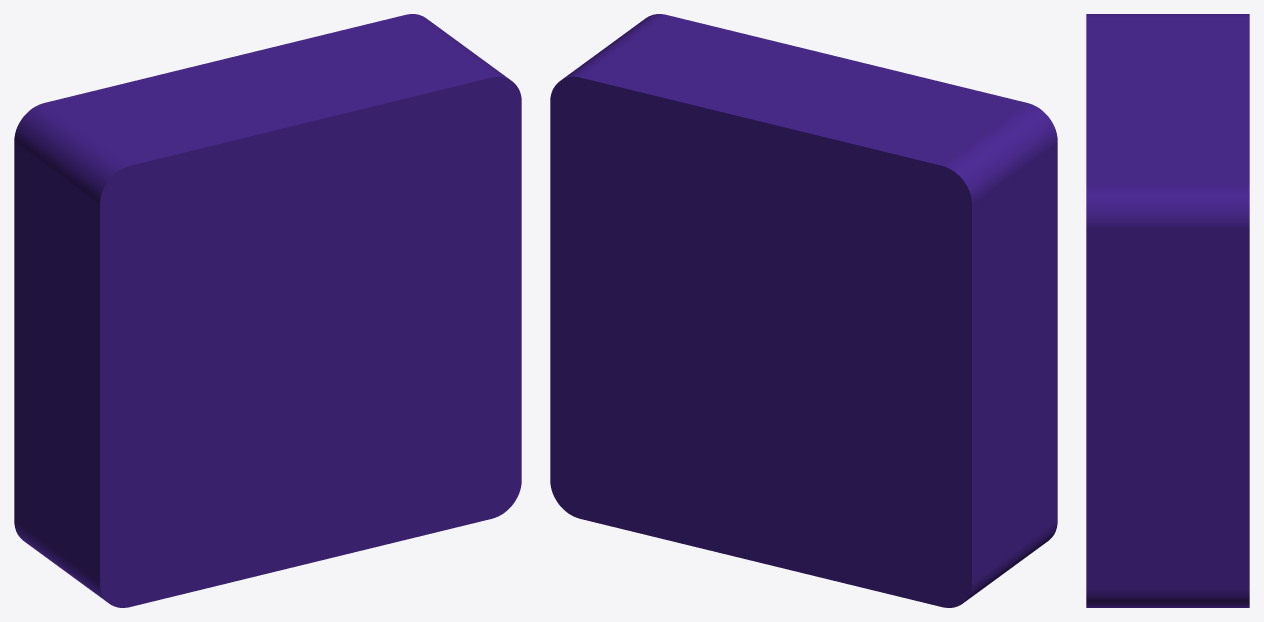
3 renders of one model, left to right at view 1: azimuth 30°, elevation 25°; view 2: azimuth 150°, elevation 25°; view 3: azimuth 270°, elevation 25°, orthographic. The views are drawn at different scales.
Parts seen in each view (by area): view 1: U+1F7EA_layer00_obj00; view 2: U+1F7EA_layer00_obj00; view 3: U+1F7EA_layer00_obj00.
Boxes of the visible parts, x1=… form: U+1F7EA_layer00_obj00: x1=14, y1=14, x2=521, y2=607; U+1F7EA_layer00_obj00: x1=550, y1=14, x2=1057, y2=607; U+1F7EA_layer00_obj00: x1=1086, y1=14, x2=1249, y2=607.
Size of the model in its own units: 0.5678 by 0.5677 by 0.2.
